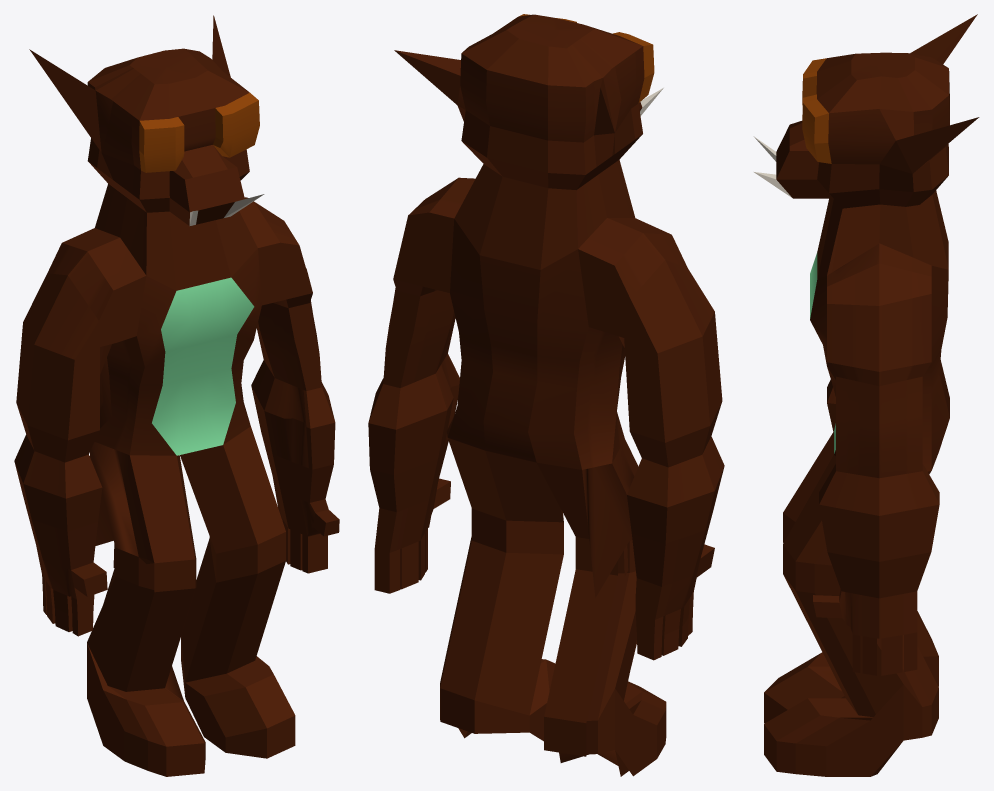
The model's file is Monster_Prototype_UpdatedAnatomy.fbx.
3 views of the same model, side by side, from view 1: azimuth 30°, elevation 25°; view 2: azimuth 150°, elevation 25°; view 3: azimuth 270°, elevation 25° (orthographic). The views are drawn at different scales.
Visible parts, largest first — view 1: pCylinder4; view 2: pCylinder4; view 3: pCylinder4.
Boxes of the visible parts, x1,y1,x2,y2 form: pCylinder4: [14, 15, 339, 776]; pCylinder4: [368, 14, 724, 776]; pCylinder4: [753, 14, 979, 776].
Size of the model in its own units: 4.01 by 8.38 by 2.54.
